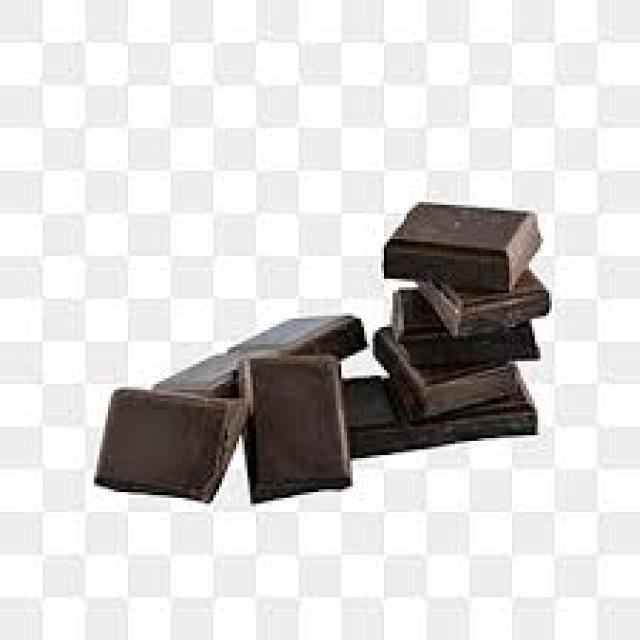Chocolate: (92, 198, 553, 507)
